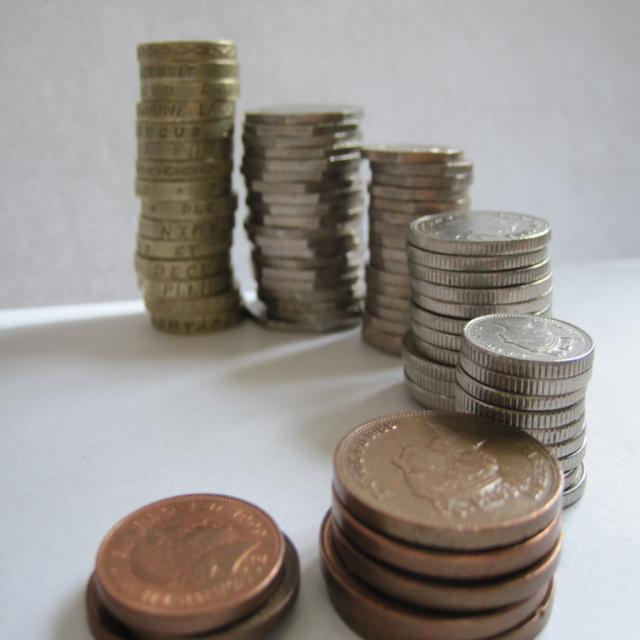Coin: (130, 37, 596, 639), (91, 490, 289, 634), (84, 530, 301, 639)
